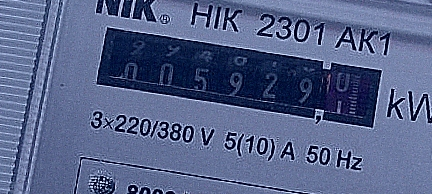0: (154, 58, 177, 89), (118, 55, 142, 81), (331, 69, 353, 94)
2: (257, 67, 280, 102)
5: (189, 63, 210, 93)
9: (221, 66, 246, 99), (293, 73, 316, 107), (126, 36, 146, 57)
screen: (87, 20, 390, 137)
